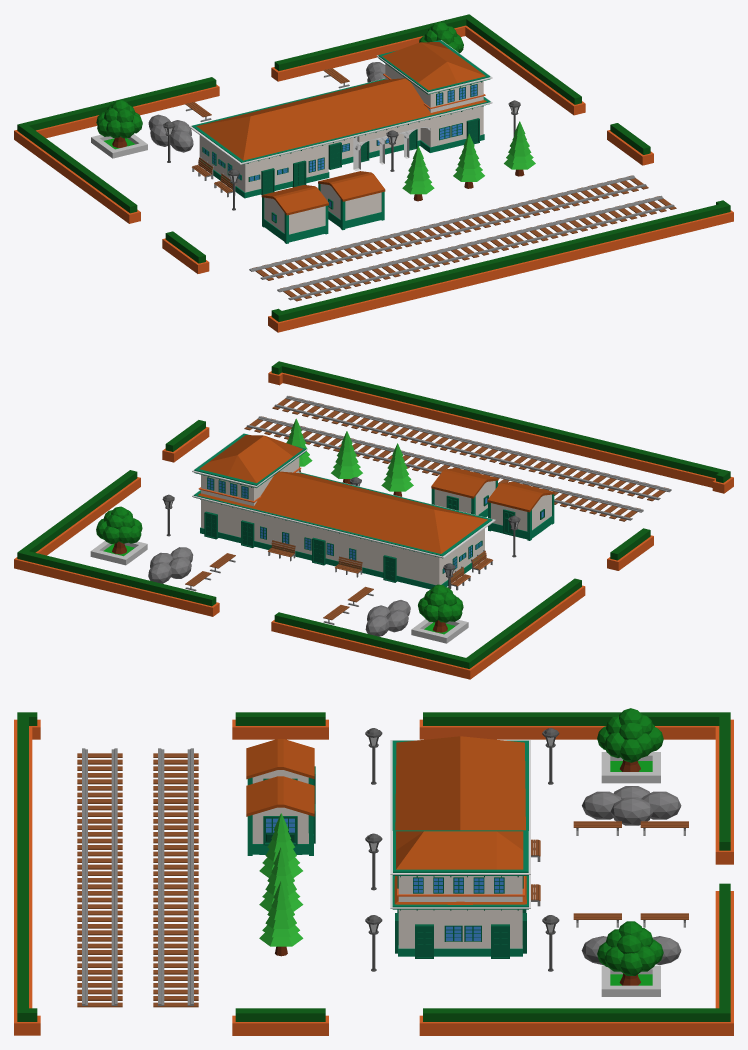
Rendered from Chia01.glb.
The picture shows the model from 3 angles, top to bottom: view 1: azimuth 30°, elevation 25°; view 2: azimuth 150°, elevation 25°; view 3: azimuth 270°, elevation 25°; orthographic projection. The views are drawn at different scales.
Visible parts, largest first — view 1: Cube.654, Cube.659, Plane.020, muros de la estacion, Cube.655, Cube.657, Cube.656, Cube.658, Plane.019, Cube.653, Cube.679, Cube.700 (+4 smaller); view 2: Cube.654, muros de la estacion, Cube.659, Plane.020, Cube.657, Cube.658, Plane.019, Cube.656, Cube.655, Cube.653, Cube.679, Cube.703 (+9 smaller); view 3: Cube.654, Plane.020, muros de la estacion, Cube.657, Cube.655, Cube.659, Cube.653, Plane.019, Cube.656, Cube.658, Cube.703, Cube.682 (+16 smaller).
Part boxes in pixels (x1=…): Cube.654: x1=14, y1=14, x2=585, y2=223; Cube.659: x1=268, y1=200, x2=733, y2=332; Plane.020: x1=196, y1=78, x2=486, y2=160; muros de la estacion: x1=191, y1=40, x2=490, y2=198; Cube.655: x1=252, y1=175, x2=648, y2=280; Cube.657: x1=280, y1=196, x2=676, y2=301; Cube.656: x1=249, y1=175, x2=646, y2=279; Cube.658: x1=277, y1=195, x2=674, y2=300; Plane.019: x1=382, y1=42, x2=485, y2=90; Cube.653: x1=162, y1=123, x2=653, y2=273; Cube.679: x1=264, y1=197, x2=325, y2=242; Cube.700: x1=320, y1=184, x2=381, y2=228; Cube.654: x1=14, y1=470, x2=585, y2=679; muros de la estacion: x1=193, y1=433, x2=492, y2=589; Cube.659: x1=268, y1=361, x2=733, y2=493; Plane.020: x1=198, y1=471, x2=487, y2=553; Cube.657: x1=272, y1=396, x2=668, y2=501; Cube.658: x1=274, y1=395, x2=671, y2=500; Plane.019: x1=199, y1=435, x2=302, y2=482; Cube.656: x1=246, y1=416, x2=643, y2=520; Cube.655: x1=244, y1=416, x2=640, y2=521; Cube.653: x1=162, y1=420, x2=653, y2=570; Cube.679: x1=488, y1=494, x2=552, y2=539; Cube.703: x1=431, y1=468, x2=498, y2=498; Cube.654: x1=419, y1=712, x2=733, y2=1035; Plane.020: x1=394, y1=736, x2=526, y2=904; muros de la estacion: x1=392, y1=740, x2=528, y2=956; Cube.657: x1=77, y1=753, x2=122, y2=1007; Cube.655: x1=153, y1=753, x2=198, y2=1007; Cube.659: x1=14, y1=712, x2=40, y2=1035; Cube.653: x1=232, y1=712, x2=328, y2=1035; Plane.019: x1=396, y1=831, x2=523, y2=869; Cube.656: x1=158, y1=748, x2=193, y2=1005; Cube.658: x1=82, y1=748, x2=117, y2=1005; Cube.703: x1=246, y1=776, x2=314, y2=816; Cube.682: x1=246, y1=739, x2=314, y2=779.
Size of the model in its own units: 32.22 by 5.97 by 32.27.
